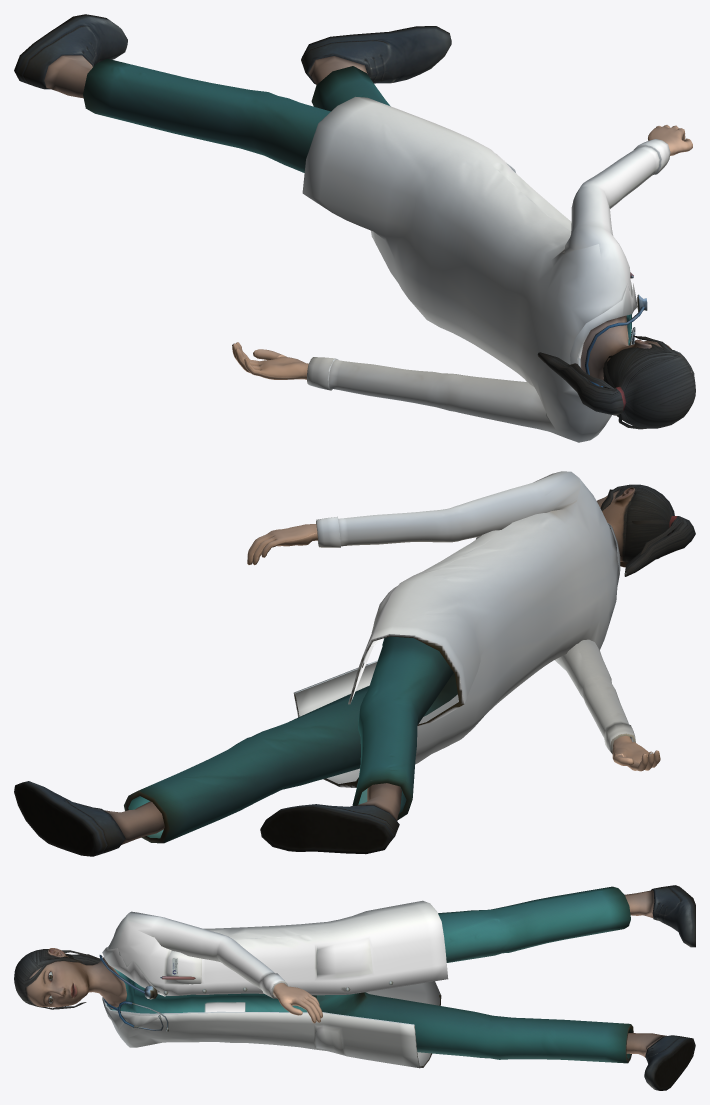
The model's file is walk.obj.
The picture shows the model from 3 angles, top to bottom: view 1: azimuth 30°, elevation 25°; view 2: azimuth 150°, elevation 25°; view 3: azimuth 270°, elevation 25°; orthographic projection. The views are drawn at different scales.
Bounding box in the file's own units: 0.9168 × 0.3715 × 1.69.
Materials: 1 (1 with a texture image).
